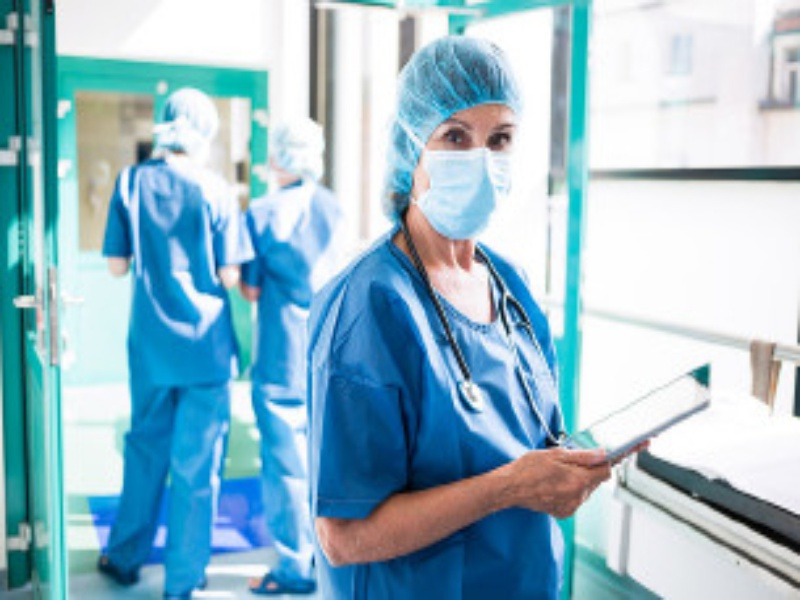mask: (392, 37, 521, 240)
